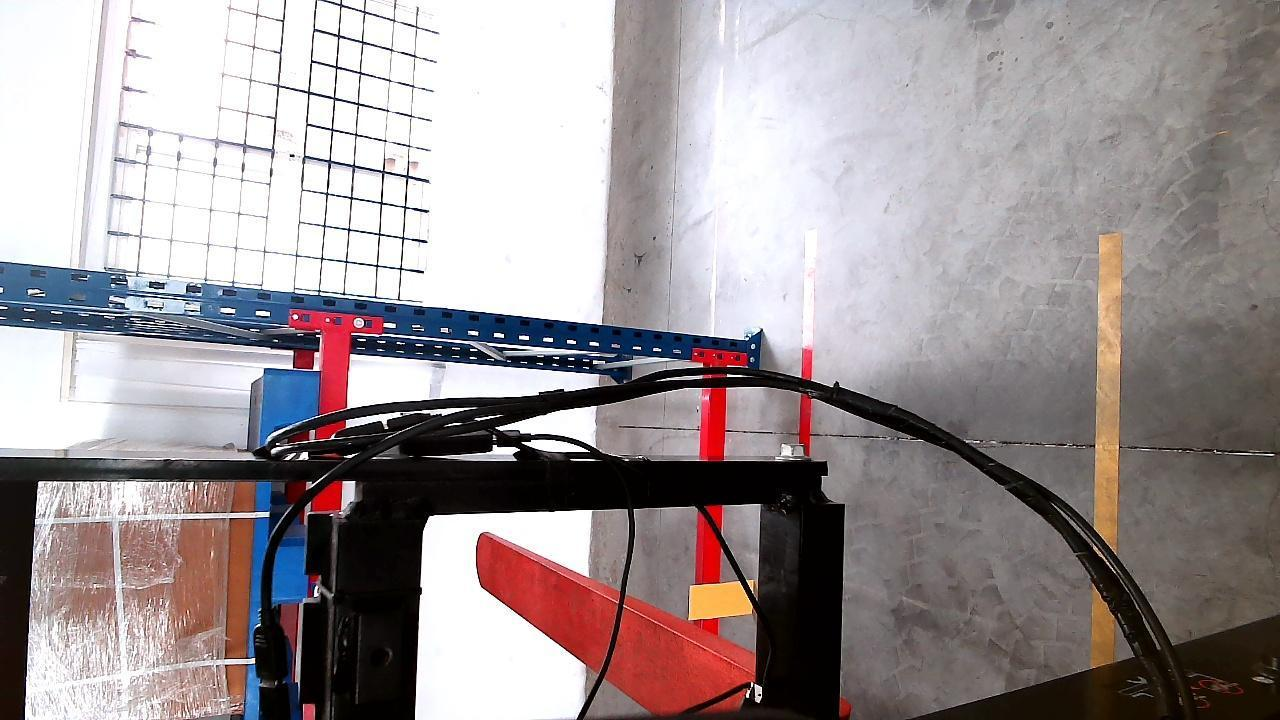h_rack: (697, 367, 733, 698)
orange_strip: (689, 582, 755, 617)
red_line: (798, 229, 821, 438)
small_pallet: (248, 367, 326, 720)
yellow_line: (1089, 223, 1122, 670)
